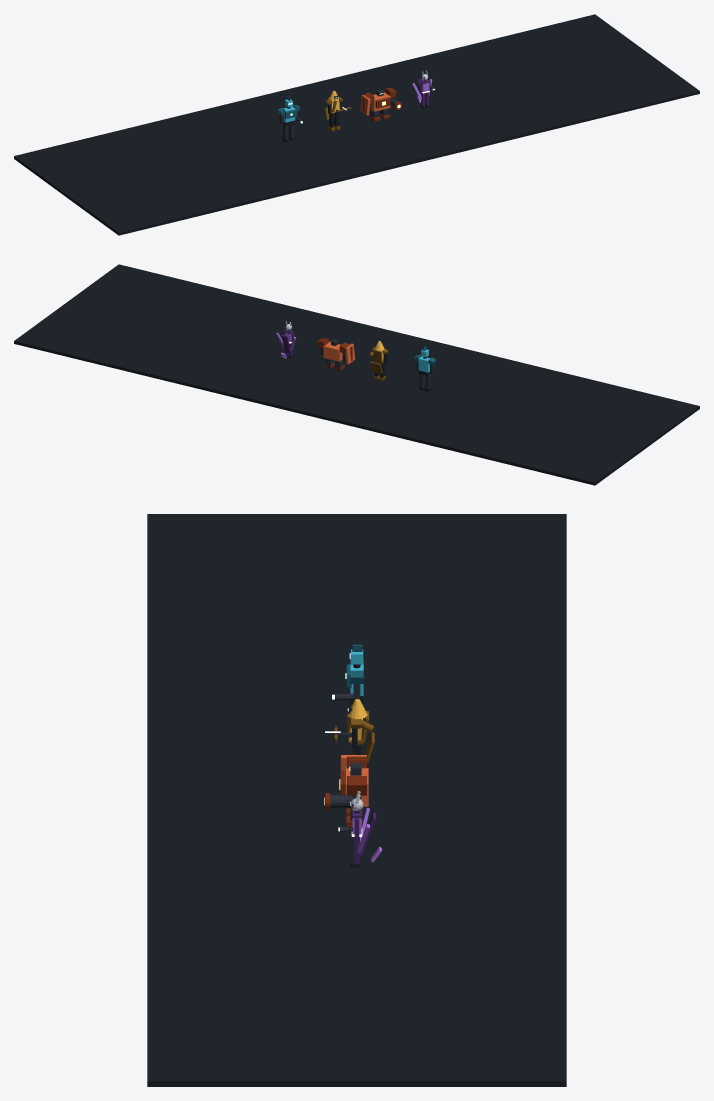
The model's file is roster.glb.
3 renders of one model, top to bottom at view 1: azimuth 30°, elevation 25°; view 2: azimuth 150°, elevation 25°; view 3: azimuth 270°, elevation 25°, orthographic. The views are drawn at different scales.
Parts seen in each view (by area): view 1: Ground, Koruyucu, Nobetci, Avci, Surgun; view 2: Ground, Koruyucu, Nobetci, Avci, Surgun; view 3: Ground, Koruyucu, Avci, Surgun, Nobetci.
Boxes of the visible parts, x1=… form: Ground: x1=14, y1=14, x2=699, y2=235; Koruyucu: x1=360, y1=88, x2=402, y2=121; Nobetci: x1=277, y1=96, x2=302, y2=142; Avci: x1=324, y1=90, x2=351, y2=131; Surgun: x1=412, y1=70, x2=435, y2=108; Ground: x1=14, y1=264, x2=699, y2=485; Koruyucu: x1=317, y1=338, x2=355, y2=370; Nobetci: x1=413, y1=346, x2=436, y2=391; Avci: x1=369, y1=341, x2=388, y2=380; Surgun: x1=276, y1=321, x2=295, y2=358; Ground: x1=147, y1=514, x2=566, y2=1086; Koruyucu: x1=324, y1=754, x2=368, y2=827; Avci: x1=325, y1=699, x2=374, y2=763; Surgun: x1=338, y1=791, x2=381, y2=867; Nobetci: x1=332, y1=644, x2=363, y2=731.
Bounding box in the file's own units: 25.6 × 1.94 × 8.
